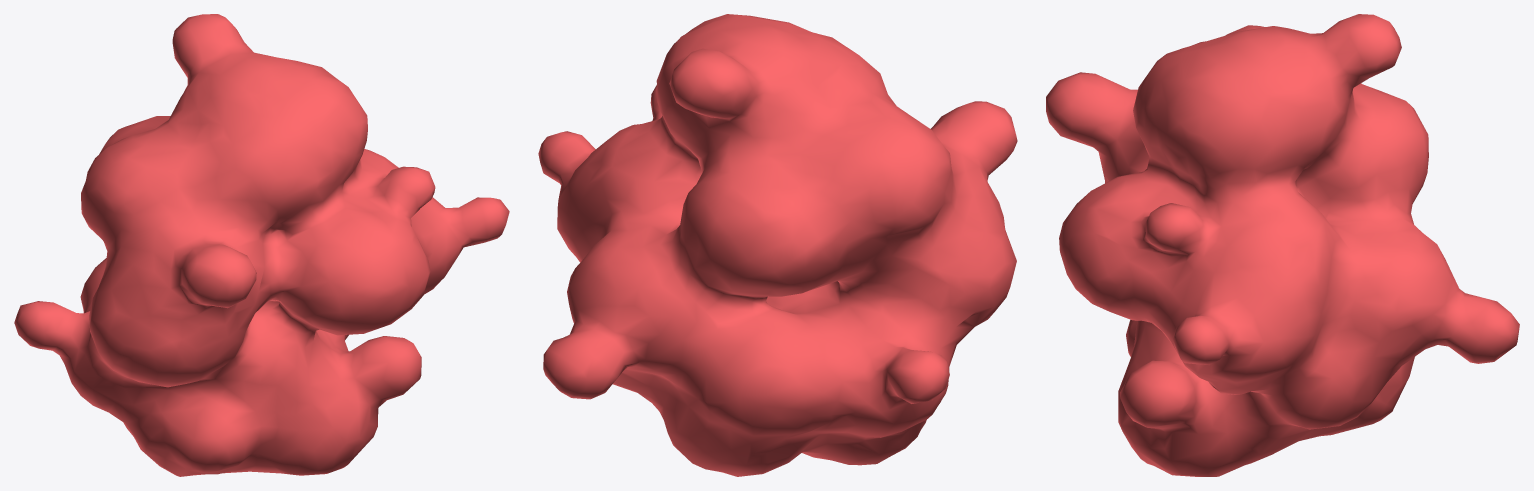
Rendered from cotton-candy-close-lod.glb.
3 views of the same model, side by side, from view 1: azimuth 30°, elevation 25°; view 2: azimuth 150°, elevation 25°; view 3: azimuth 270°, elevation 25° (orthographic). The views are drawn at different scales.
Parts seen in each view (by area): view 1: cotton-candy-close low core; view 2: cotton-candy-close low core; view 3: cotton-candy-close low core.
Part boxes in pixels (x1=…): cotton-candy-close low core: x1=14, y1=14, x2=509, y2=476; cotton-candy-close low core: x1=538, y1=14, x2=1017, y2=476; cotton-candy-close low core: x1=1046, y1=14, x2=1519, y2=476.
Bounding box in the file's own units: 2.3 × 2 × 2.02.
